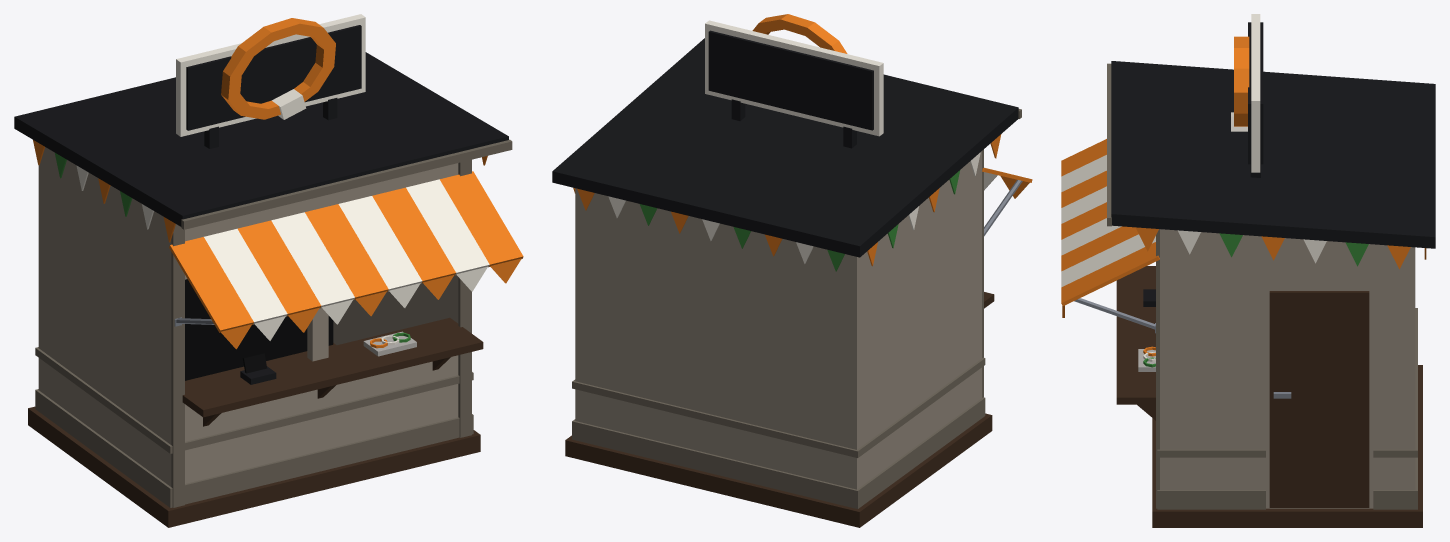
The model's file is WristbandBooth.fbx.
3 renders of one model, left to right at view 1: azimuth 30°, elevation 25°; view 2: azimuth 150°, elevation 25°; view 3: azimuth 270°, elevation 25°, orthographic. The views are drawn at different scales.
Visible parts, largest first — view 1: WristbandBooth_Festival_988E81, WristbandBooth_Festival_151619, WristbandBooth_Festival_ED7E1D, WristbandBooth_Festival_70685C, WristbandBooth_Festival_3D2A1C, WristbandBooth_Festival_F2EDE2, WristbandBooth_Festival_090A0B, WristbandBooth_Festival_B6B3AF; view 2: WristbandBooth_Festival_988E81, WristbandBooth_Festival_151619, WristbandBooth_Festival_70685C, WristbandBooth_Festival_3D2A1C, WristbandBooth_Festival_F2EDE2, WristbandBooth_Festival_ED7E1D, WristbandBooth_Festival_3A883A; view 3: WristbandBooth_Festival_151619, WristbandBooth_Festival_988E81, WristbandBooth_Festival_3D2A1C, WristbandBooth_Festival_ED7E1D, WristbandBooth_Festival_70685C, WristbandBooth_Festival_F2EDE2, WristbandBooth_Festival_3A883A, WristbandBooth_Festival_7D828C.
Part boxes in pixels (x1=…): WristbandBooth_Festival_988E81: x1=38, y1=147, x2=458, y2=486; WristbandBooth_Festival_151619: x1=14, y1=25, x2=508, y2=384; WristbandBooth_Festival_ED7E1D: x1=33, y1=18, x2=523, y2=349; WristbandBooth_Festival_70685C: x1=35, y1=139, x2=512, y2=507; WristbandBooth_Festival_3D2A1C: x1=28, y1=317, x2=483, y2=527; WristbandBooth_Festival_F2EDE2: x1=76, y1=14, x2=489, y2=345; WristbandBooth_Festival_090A0B: x1=185, y1=279, x2=333, y2=380; WristbandBooth_Festival_B6B3AF: x1=363, y1=331, x2=416, y2=356; WristbandBooth_Festival_988E81: x1=575, y1=151, x2=981, y2=489; WristbandBooth_Festival_151619: x1=552, y1=30, x2=1018, y2=257; WristbandBooth_Festival_70685C: x1=572, y1=109, x2=1021, y2=508; WristbandBooth_Festival_3D2A1C: x1=565, y1=292, x2=994, y2=527; WristbandBooth_Festival_F2EDE2: x1=608, y1=20, x2=997, y2=263; WristbandBooth_Festival_ED7E1D: x1=573, y1=14, x2=1032, y2=266; WristbandBooth_Festival_3A883A: x1=639, y1=170, x2=960, y2=271; WristbandBooth_Festival_151619: x1=1111, y1=22, x2=1435, y2=306; WristbandBooth_Festival_988E81: x1=1160, y1=229, x2=1415, y2=508; WristbandBooth_Festival_3D2A1C: x1=1116, y1=266, x2=1422, y2=527; WristbandBooth_Festival_ED7E1D: x1=1061, y1=36, x2=1426, y2=356; WristbandBooth_Festival_70685C: x1=1107, y1=63, x2=1417, y2=509; WristbandBooth_Festival_F2EDE2: x1=1061, y1=14, x2=1326, y2=361; WristbandBooth_Festival_3A883A: x1=1143, y1=233, x2=1368, y2=367; WristbandBooth_Festival_7D828C: x1=1074, y1=298, x2=1291, y2=398.
Size of the model in its own units: 2.86 by 3.59 by 2.93.
